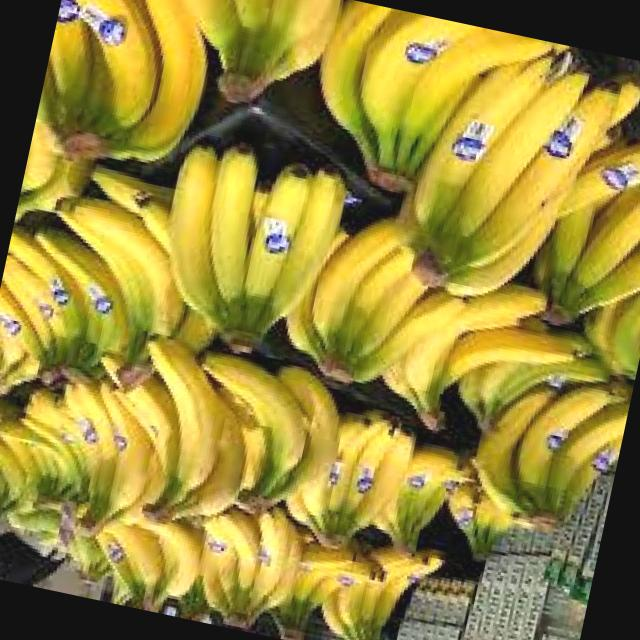Banana: (385, 24, 640, 328), (295, 0, 574, 222), (141, 132, 359, 370), (26, 159, 218, 402), (370, 261, 591, 458), (273, 200, 479, 406), (72, 326, 269, 541), (29, 0, 225, 182), (457, 352, 631, 546), (0, 356, 166, 551), (270, 403, 420, 562), (0, 225, 125, 392), (183, 495, 311, 637), (79, 501, 208, 619), (310, 530, 443, 640)
